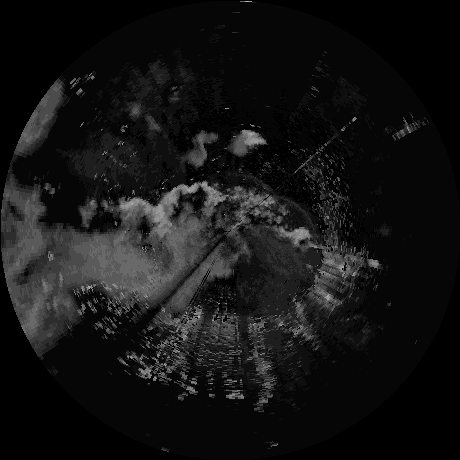frontgust: (283, 197, 320, 240), (249, 174, 277, 195)
